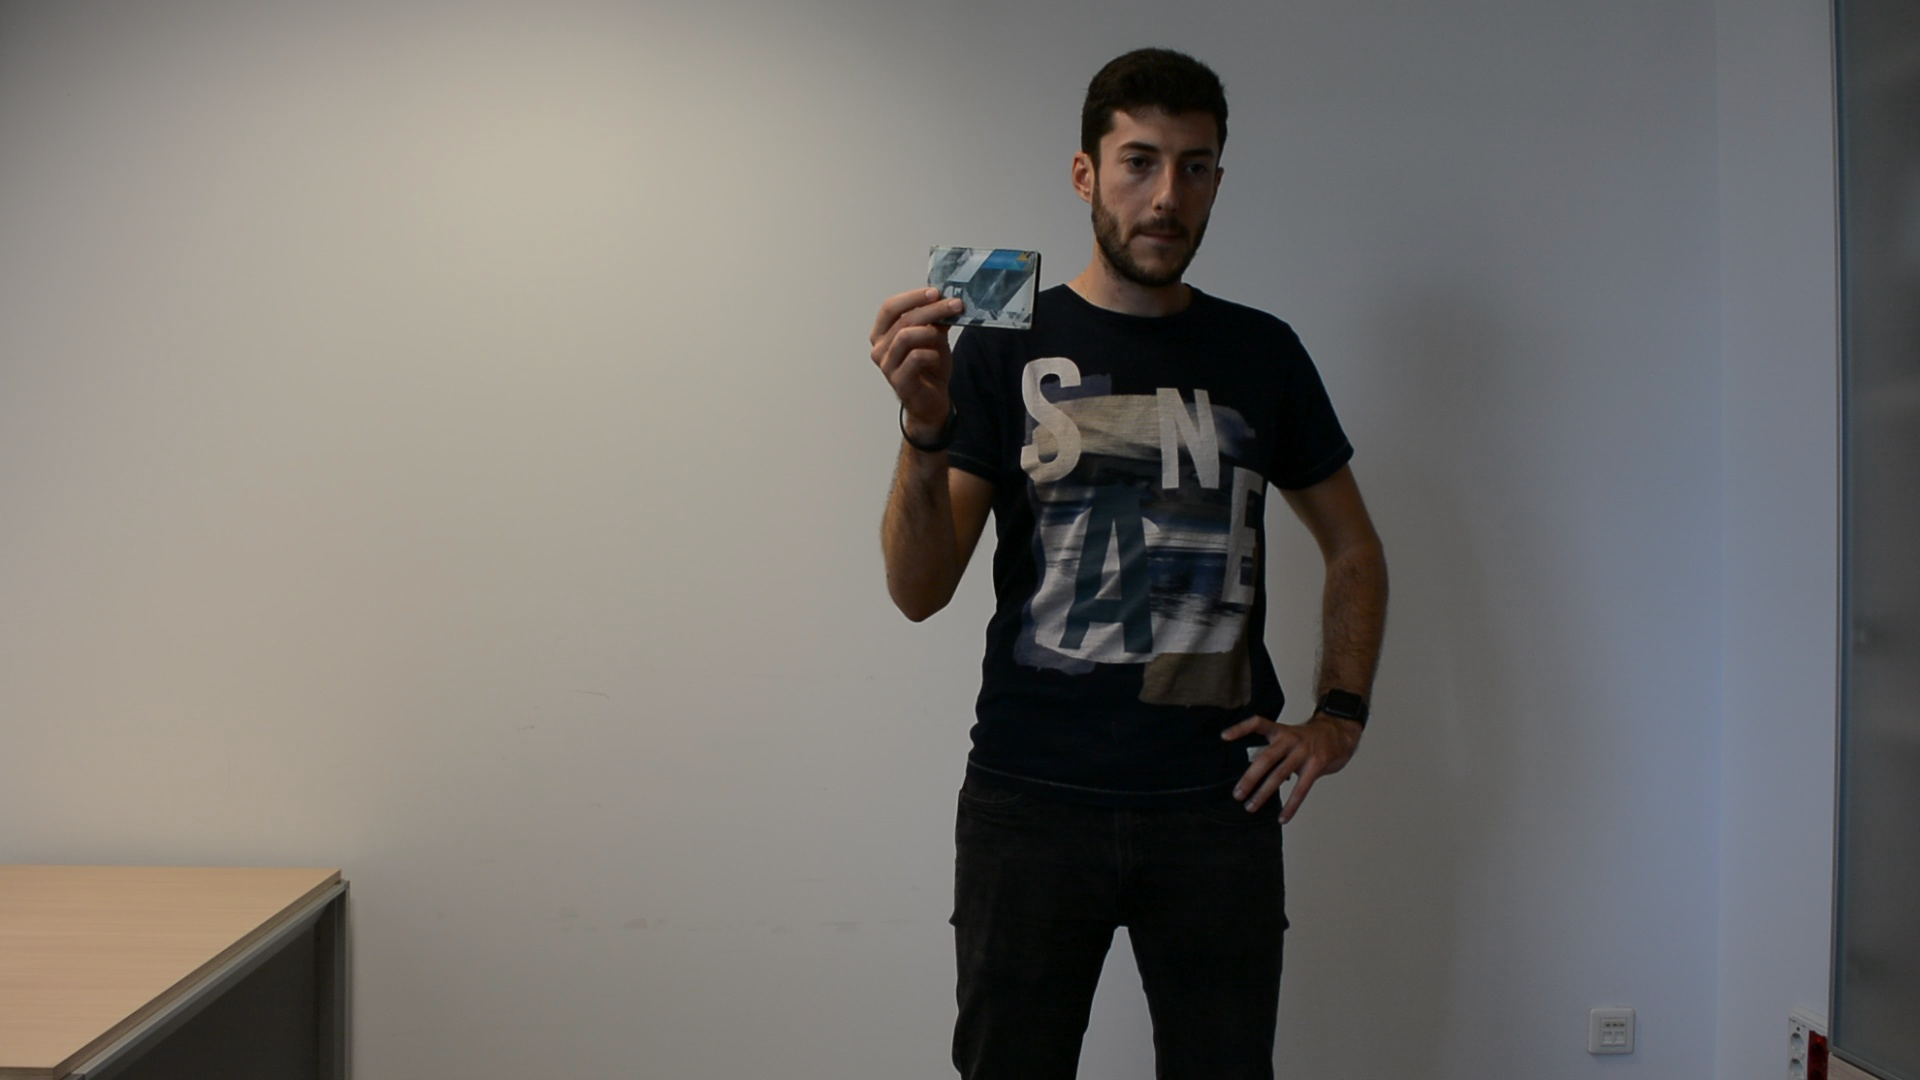monedero: (924, 243, 1042, 334)
